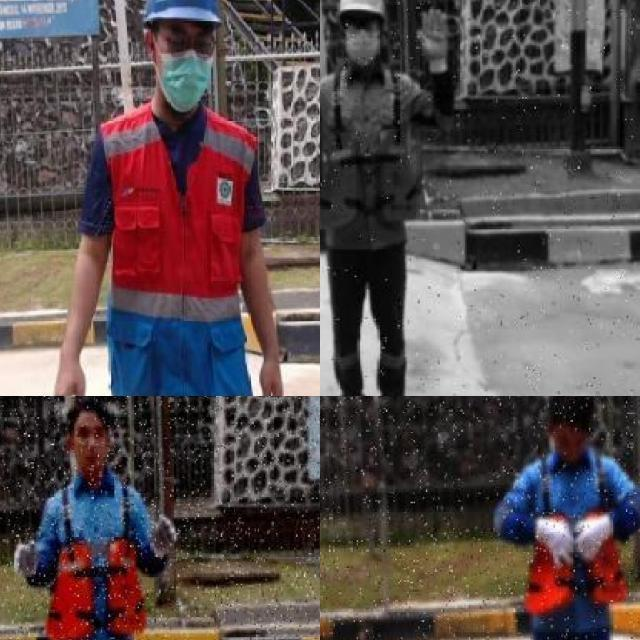apron: (531, 512, 582, 575), (414, 5, 456, 76), (569, 510, 617, 570), (140, 512, 180, 562), (7, 533, 41, 582)
